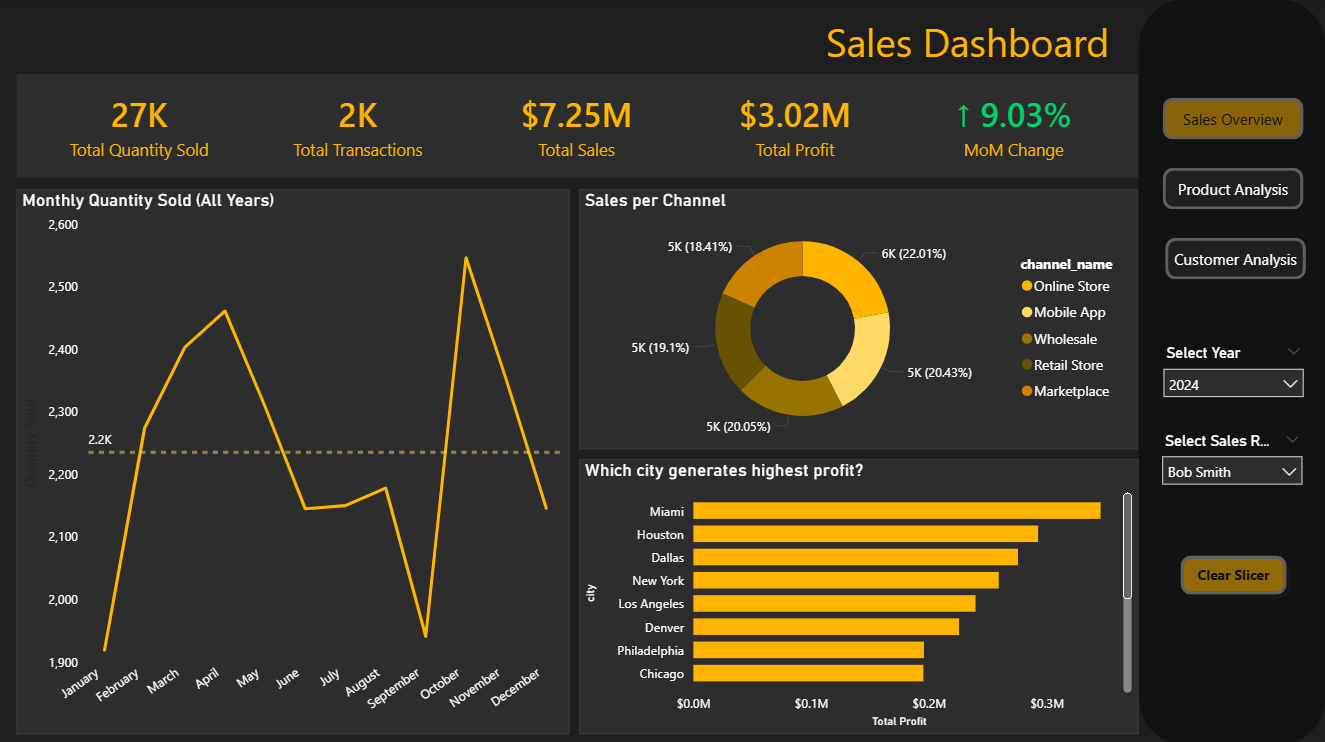

Layout of this report page (visuals, bound fields, positions):
{"tool":"powerbi","page":{"name":"Sales Overview","canvas":[1280,720],"ordinal":0},"visuals":[{"type":"cardVisual","fields":{"Data":["_Measures.Quantity Sold","_Measures.Transactions","Sum(sales_fact.gross_amount)","Sum(sales_fact.profit)","_Measures.MoM Change Display"]},"box":[16.9,72.4,1082.2,100.1],"z":0},{"type":"shape","box":[1100.5,0,179.8,720.2],"z":1000},{"type":"textbox","box":[768,11.1,332.5,61.2],"z":2000},{"type":"slicer","fields":{"Values":["date_dim.year"]},"box":[1114,327.7,155.3,64.8],"z":3000},{"type":"lineChart","title":"Monthly Quantity Sold (All Years)","fields":{"Y":["_Measures.Quantity Sold"],"Category":["date_dim.date.Variation.Date Hierarchy.Month"]},"box":[16.9,183.4,533.2,526],"z":4000},{"type":"actionButton","box":[1131.1,528.3,119.8,55],"z":5000},{"type":"barChart","title":"Which city generates highest profit?","fields":{"Category":["customer_dim.city"],"Y":["_Measures.Total Profit"]},"box":[559.3,443.8,539.8,265.7],"z":6000},{"type":"actionButton","box":[1123.8,95.4,135.7,40.4],"z":7000},{"type":"actionButton","box":[1123.8,162.6,135.7,40.4],"z":8000},{"type":"actionButton","box":[1125,229.9,135.7,40.4],"z":9000},{"type":"donutChart","title":"Sales per Channel","fields":{"Y":["_Measures.Quantity Sold"],"Category":["channel_dim.channel_name"]},"box":[559.8,183.4,539.3,250.9],"z":10000},{"type":"slicer","fields":{"Values":["sales_rep_dim.sales_rep_name"]},"box":[1112.1,412.1,155.3,64.8],"z":11000}]}

Visuals, with their boxes in screenshot pixels (x1, y1, x2, y2), scaled from the page's 1280x720 canvas onto the 1325x742 screenshot:
cardVisual - _Measures.Quantity Sold x _Measures.Transactions: region(17, 75, 1138, 178)
shape: region(1139, 0, 1324, 741)
textbox: region(795, 11, 1139, 75)
slicer - date_dim.year: region(1153, 338, 1314, 404)
"Monthly Quantity Sold (All Years)" lineChart: region(17, 189, 569, 731)
actionButton: region(1171, 544, 1295, 601)
"Which city generates highest profit?" barChart: region(579, 457, 1138, 731)
actionButton: region(1163, 98, 1304, 140)
actionButton: region(1163, 168, 1304, 209)
actionButton: region(1165, 237, 1305, 279)
"Sales per Channel" donutChart: region(579, 189, 1138, 448)
slicer - sales_rep_dim.sales_rep_name: region(1151, 425, 1312, 491)
